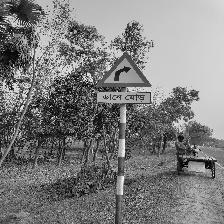Right-turn: (96, 52, 153, 105)
